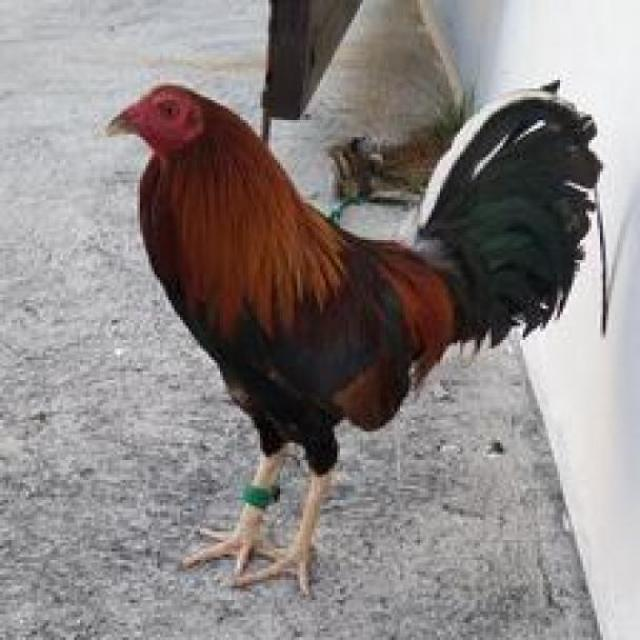Chicken: (104, 68, 626, 588)
